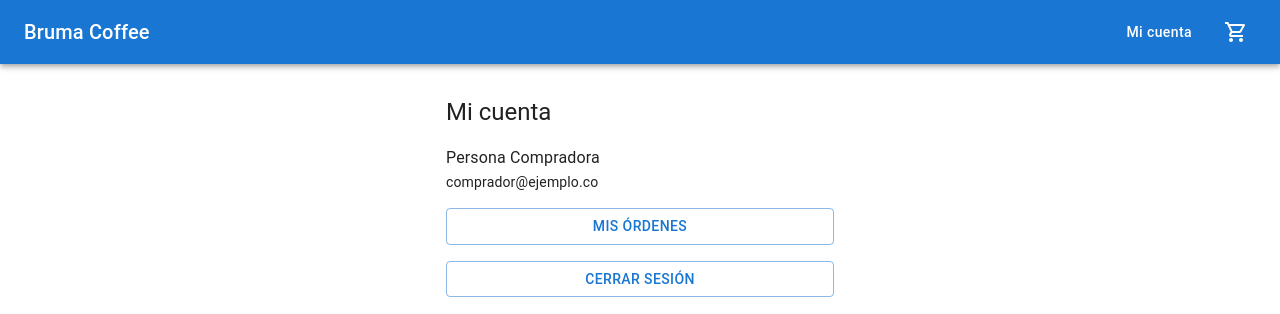
el camino para llegar al historial › desde la cuenta se llega a las ordenes, y la cuenta se queda atras
Click the link "Mis órdenes": {"x": 640, "y": 226} [446,208,834,244]
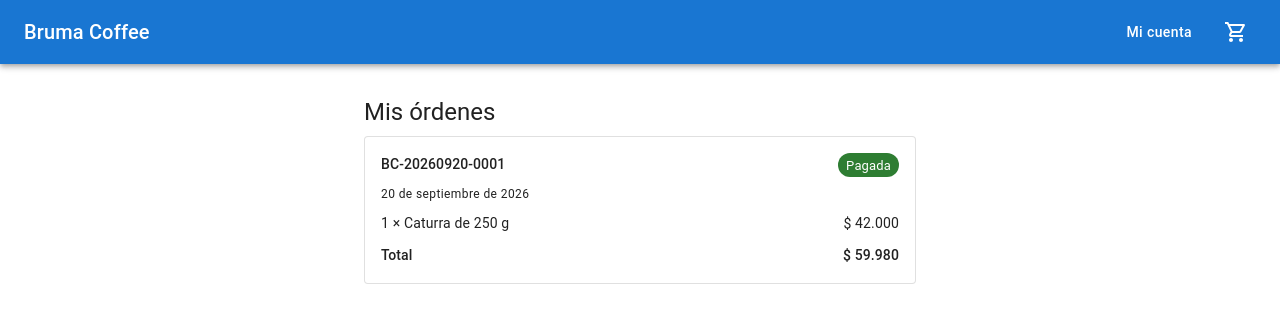
Check: the heading "Mis órdenes" is shown, box [364,98,495,126]
Check: the heading "BC-20260920-0001" is shown, box [381,154,505,176]
